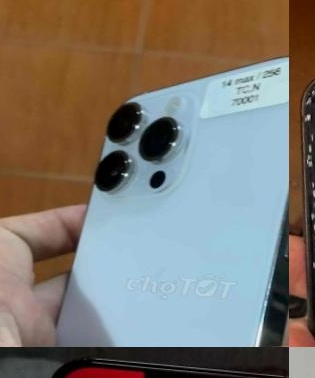scratch: (289, 62, 315, 295)
